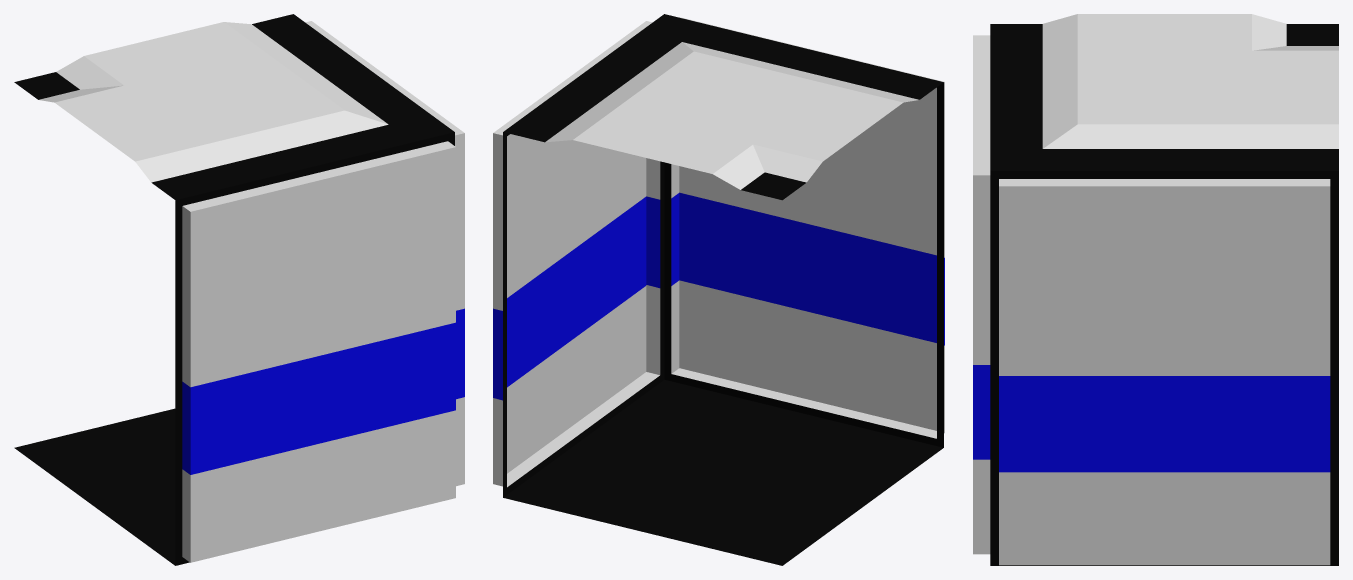
Rendered from wall_curveInt.fbx.
3 views of the same model, side by side, from view 1: azimuth 30°, elevation 25°; view 2: azimuth 150°, elevation 25°; view 3: azimuth 270°, elevation 25° (orthographic). The views are drawn at different scales.
Parts seen in each view (by area): view 1: wall_curveInt; view 2: wall_curveInt; view 3: wall_curveInt.
Part boxes in pixels (x1,y1,x2,y2): wall_curveInt: [14, 14, 464, 565]; wall_curveInt: [493, 14, 944, 565]; wall_curveInt: [973, 14, 1338, 565].
Size of the model in its own units: 420 by 512 by 420.
